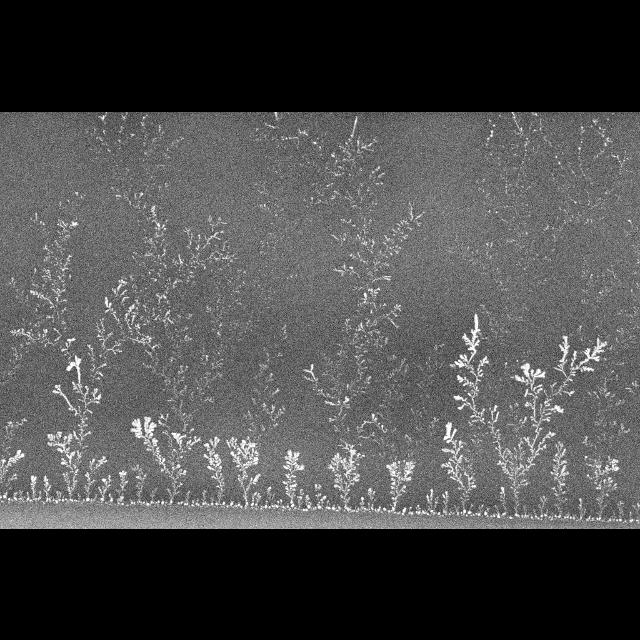dendrites: (487, 335, 609, 516), (47, 354, 101, 501), (130, 411, 200, 503), (449, 312, 489, 423), (39, 217, 79, 322), (440, 421, 477, 513), (328, 437, 365, 512), (226, 435, 262, 510), (586, 454, 619, 521), (386, 459, 418, 513), (550, 440, 570, 518), (203, 436, 224, 505), (282, 449, 304, 506), (0, 449, 24, 498), (84, 455, 108, 501), (9, 327, 62, 347), (171, 400, 199, 433), (189, 251, 239, 269), (8, 276, 31, 306), (88, 344, 106, 380), (124, 298, 140, 335), (357, 413, 388, 432), (507, 402, 526, 433), (132, 464, 147, 503), (262, 402, 285, 426), (95, 316, 113, 346), (281, 127, 308, 147), (129, 334, 162, 350), (4, 418, 27, 439), (383, 303, 402, 327), (26, 475, 42, 502), (116, 469, 128, 504), (30, 289, 53, 307), (98, 474, 111, 502), (333, 263, 359, 277), (203, 230, 224, 247), (105, 296, 119, 321), (60, 337, 76, 358), (337, 460, 349, 488), (243, 410, 257, 434), (354, 354, 368, 378), (426, 488, 439, 513), (105, 337, 125, 353), (304, 363, 318, 385), (112, 277, 127, 297), (512, 111, 524, 135), (152, 217, 166, 237), (9, 343, 23, 363), (252, 363, 268, 380), (204, 371, 222, 386), (338, 395, 350, 416), (145, 486, 158, 505), (382, 241, 401, 254), (43, 474, 52, 501), (52, 490, 69, 503), (267, 485, 277, 507), (500, 485, 507, 515), (176, 490, 190, 505), (361, 138, 377, 151), (538, 494, 547, 516), (621, 149, 632, 167), (209, 221, 228, 231), (632, 501, 640, 524), (124, 193, 137, 207), (302, 493, 312, 511), (162, 429, 172, 447), (578, 497, 586, 519), (368, 486, 376, 508), (583, 435, 596, 448), (368, 286, 380, 300), (321, 352, 333, 366), (145, 235, 157, 248), (617, 499, 624, 521), (316, 388, 333, 397), (265, 352, 282, 361), (372, 274, 391, 282), (316, 493, 326, 508), (354, 338, 369, 348), (351, 115, 358, 136), (442, 490, 448, 514), (598, 386, 610, 398), (211, 358, 224, 369), (7, 363, 20, 374), (251, 491, 261, 505), (377, 411, 391, 421), (477, 304, 491, 314), (297, 488, 304, 507), (357, 136, 363, 158), (618, 423, 630, 434), (322, 369, 335, 379), (171, 135, 184, 145), (367, 237, 375, 253), (206, 304, 215, 318), (414, 210, 425, 221), (342, 151, 354, 161), (157, 365, 167, 377), (607, 264, 616, 277), (185, 226, 193, 240), (328, 170, 344, 177), (140, 113, 148, 127), (603, 476, 613, 487), (156, 293, 167, 303), (611, 151, 621, 162), (201, 489, 208, 504), (359, 431, 374, 438), (521, 504, 529, 517), (196, 378, 202, 395), (178, 364, 188, 374), (408, 200, 413, 220), (489, 316, 499, 326), (533, 509, 542, 520), (356, 321, 365, 332), (375, 302, 386, 311), (471, 438, 482, 447), (162, 315, 174, 323), (325, 399, 341, 405), (462, 466, 474, 474), (372, 436, 384, 444), (150, 204, 157, 217), (259, 499, 269, 508), (360, 496, 366, 511), (384, 233, 394, 242), (98, 111, 108, 120), (596, 126, 605, 136), (350, 378, 359, 388), (475, 504, 483, 515), (173, 277, 181, 288), (431, 416, 439, 427), (399, 358, 407, 369), (544, 135, 552, 146), (135, 322, 142, 334), (350, 332, 357, 344), (487, 129, 494, 141), (174, 325, 188, 331), (374, 338, 383, 347), (191, 498, 201, 506), (166, 385, 176, 393), (174, 375, 184, 383), (180, 384, 187, 395), (614, 398, 625, 405), (563, 513, 575, 519), (145, 349, 154, 357), (272, 386, 280, 395), (369, 300, 377, 309), (379, 249, 388, 257), (371, 165, 380, 173), (274, 111, 282, 120), (539, 117, 545, 129), (495, 504, 500, 518), (223, 240, 230, 250), (204, 395, 214, 402), (30, 212, 37, 222), (542, 254, 552, 261), (585, 514, 596, 520), (454, 504, 460, 515), (361, 291, 367, 302), (340, 217, 351, 223), (367, 328, 380, 333), (580, 162, 585, 175), (626, 386, 634, 394), (74, 492, 81, 501), (304, 374, 313, 381), (267, 372, 274, 381), (277, 498, 283, 508), (162, 243, 167, 255), (357, 250, 363, 260), (341, 231, 346, 243), (265, 122, 275, 128), (32, 282, 44, 287), (172, 257, 179, 265), (164, 378, 172, 385), (365, 375, 372, 383), (333, 424, 341, 431), (405, 433, 412, 441), (373, 260, 380, 268), (332, 159, 340, 166), (121, 111, 128, 119), (32, 267, 36, 281), (629, 511, 634, 522), (325, 500, 331, 509), (415, 504, 421, 513), (357, 386, 366, 392), (18, 489, 23, 499), (145, 251, 155, 256), (187, 238, 192, 248), (515, 315, 525, 320), (159, 261, 166, 268), (542, 223, 549, 230), (315, 482, 321, 490), (282, 502, 290, 508), (401, 506, 407, 514), (422, 509, 430, 515), (183, 334, 191, 340), (143, 361, 151, 367), (344, 317, 350, 325), (350, 252, 358, 258), (377, 171, 385, 177), (251, 396, 257, 404), (631, 380, 639, 386), (439, 360, 445, 368), (404, 363, 408, 375), (537, 280, 545, 286), (326, 181, 335, 186), (367, 182, 372, 191), (91, 125, 96, 134), (628, 218, 633, 227), (109, 491, 113, 502), (179, 253, 183, 264), (331, 233, 338, 239), (593, 390, 599, 397), (585, 217, 592, 223), (592, 117, 598, 124), (486, 241, 492, 248), (522, 302, 528, 309), (549, 512, 554, 520), (12, 491, 17, 499), (91, 493, 96, 501), (132, 254, 137, 262), (370, 319, 375, 327), (400, 233, 408, 238), (333, 189, 341, 194), (521, 185, 531, 189), (581, 298, 589, 303), (445, 248, 455, 252), (628, 334, 636, 339), (234, 503, 243, 507), (375, 506, 381, 512), (120, 289, 126, 295), (512, 142, 518, 148), (199, 347, 205, 353), (122, 296, 129, 301), (356, 233, 361, 240), (361, 240, 368, 245), (402, 219, 409, 224), (252, 387, 259, 392), (616, 308, 623, 313), (490, 327, 497, 332), (416, 425, 423, 430), (505, 176, 507, 193), (168, 397, 176, 401), (337, 350, 345, 354), (605, 137, 613, 141), (533, 274, 541, 278), (606, 517, 612, 522), (613, 511, 616, 521), (623, 517, 628, 523), (335, 505, 341, 510), (165, 309, 170, 315), (216, 249, 222, 254), (187, 313, 192, 319), (152, 306, 155, 316), (341, 413, 346, 419), (416, 221, 422, 226), (362, 228, 368, 233), (344, 195, 350, 200), (616, 328, 622, 333), (571, 198, 577, 203), (563, 208, 568, 214), (502, 217, 508, 222), (439, 342, 445, 347), (425, 361, 430, 367), (417, 382, 422, 388), (606, 345, 612, 350), (482, 431, 488, 436), (594, 420, 600, 425), (544, 508, 548, 515), (116, 194, 123, 198), (139, 191, 143, 198), (330, 386, 337, 390), (40, 220, 44, 227), (164, 321, 168, 328), (465, 457, 472, 461), (429, 429, 436, 433), (615, 361, 624, 364), (229, 500, 234, 505), (155, 314, 160, 319), (329, 416, 334, 421), (390, 371, 395, 376), (391, 354, 396, 359), (363, 259, 368, 264), (392, 227, 397, 232), (398, 228, 403, 233), (264, 385, 269, 390), (599, 289, 604, 294), (580, 129, 585, 134), (600, 147, 605, 152), (633, 305, 638, 310), (408, 451, 413, 456), (490, 513, 496, 517), (8, 497, 14, 501), (332, 503, 336, 509), (409, 506, 412, 514), (143, 303, 146, 311), (195, 244, 199, 250), (208, 214, 212, 220), (352, 285, 358, 289), (382, 261, 388, 265), (310, 195, 313, 203), (345, 140, 349, 146), (96, 136, 102, 140), (532, 111, 538, 115), (526, 136, 530, 142), (636, 258, 640, 264), (582, 288, 588, 292), (481, 336, 489, 339), (434, 343, 437, 351), (399, 392, 403, 398), (121, 275, 127, 279), (578, 350, 584, 354), (468, 421, 474, 425), (465, 447, 471, 451), (210, 497, 213, 504), (158, 254, 161, 261), (161, 238, 164, 245), (346, 426, 349, 433), (357, 187, 360, 194), (376, 181, 383, 184), (158, 124, 161, 131), (262, 423, 265, 430), (524, 140, 527, 147), (587, 198, 590, 205), (434, 359, 437, 366), (388, 389, 391, 396), (467, 509, 471, 514), (484, 509, 488, 514), (131, 499, 135, 504), (383, 506, 387, 511), (226, 278, 231, 282), (396, 222, 401, 226), (330, 194, 335, 198), (331, 151, 335, 156), (343, 147, 348, 151), (348, 195, 353, 199), (107, 147, 111, 152), (152, 137, 156, 142), (282, 324, 286, 329), (610, 393, 614, 398), (628, 313, 633, 317), (477, 331, 482, 335), (505, 303, 509, 308), (620, 327, 624, 332), (467, 464, 472, 468), (357, 441, 362, 445), (390, 442, 395, 446), (130, 274, 133, 280), (134, 192, 137, 198), (371, 201, 377, 204), (257, 189, 263, 192), (119, 125, 122, 131), (283, 328, 286, 334), (604, 379, 607, 385), (579, 324, 581, 333), (200, 361, 206, 364), (616, 336, 619, 342), (0, 491, 2, 499), (156, 499, 160, 503), (218, 216, 222, 220), (167, 277, 171, 281), (217, 331, 221, 335), (366, 319, 370, 323), (367, 270, 371, 274), (398, 237, 402, 241), (400, 220, 404, 224), (361, 216, 365, 220), (359, 167, 363, 171), (118, 138, 122, 142), (283, 335, 287, 339), (587, 390, 591, 394), (594, 153, 598, 157), (571, 169, 575, 173), (552, 233, 556, 237), (582, 269, 586, 273), (507, 314, 511, 318), (499, 280, 503, 284), (165, 284, 169, 288), (598, 333, 602, 337), (392, 427, 396, 431), (597, 435, 601, 439), (161, 499, 164, 504), (140, 315, 143, 320), (198, 233, 201, 238), (157, 271, 160, 276), (188, 270, 193, 273), (189, 274, 194, 277), (219, 322, 222, 327), (170, 356, 173, 361), (379, 403, 384, 406), (411, 407, 414, 412), (358, 286, 363, 289), (407, 226, 412, 229), (337, 165, 342, 168), (317, 198, 322, 201), (130, 133, 135, 136), (590, 273, 593, 278), (604, 189, 607, 194), (636, 281, 639, 286), (336, 342, 341, 345), (35, 307, 38, 312), (132, 282, 135, 287), (133, 289, 138, 292), (176, 342, 179, 347), (116, 320, 121, 323), (520, 244, 525, 247), (502, 287, 507, 290), (477, 423, 480, 428), (419, 411, 422, 416), (206, 354, 208, 361), (385, 336, 387, 343), (509, 515, 513, 518), (222, 500, 225, 504), (133, 251, 137, 254), (165, 182, 168, 186), (159, 267, 162, 271), (192, 252, 194, 258), (177, 314, 181, 317), (165, 300, 168, 304), (334, 415, 337, 419), (397, 227, 400, 231), (351, 204, 357, 206), (360, 182, 364, 185), (255, 127, 259, 130), (102, 129, 105, 133), (143, 141, 146, 145), (125, 167, 129, 170), (158, 185, 161, 189), (68, 198, 70, 204), (557, 160, 561, 163), (581, 125, 584, 129), (604, 141, 607, 145), (578, 150, 580, 156), (585, 190, 589, 193), (558, 205, 561, 209), (564, 219, 567, 223), (505, 361, 507, 367), (516, 358, 519, 362), (216, 351, 220, 354), (186, 279, 189, 283), (219, 267, 223, 270), (260, 249, 264, 252), (62, 320, 66, 323), (3, 371, 5, 377), (139, 289, 142, 293), (154, 259, 158, 262), (177, 355, 181, 358), (180, 338, 183, 342), (155, 352, 158, 356), (119, 324, 122, 328), (475, 178, 478, 182), (482, 177, 485, 181), (486, 192, 489, 196), (395, 454, 397, 460), (217, 298, 219, 303), (315, 201, 320, 203), (59, 200, 61, 205), (581, 137, 583, 142), (605, 155, 610, 157), (631, 288, 633, 293), (234, 290, 239, 292), (179, 265, 181, 270), (69, 273, 71, 278), (481, 271, 486, 273), (352, 393, 357, 395), (616, 518, 619, 521), (154, 278, 157, 281), (143, 322, 146, 325), (143, 204, 146, 207), (165, 290, 168, 293), (317, 388, 320, 391), (378, 264, 381, 267), (369, 218, 372, 221), (313, 140, 316, 143), (348, 138, 351, 141), (260, 203, 263, 206), (263, 203, 266, 206), (161, 130, 164, 133), (167, 155, 170, 158), (117, 188, 120, 191), (75, 191, 78, 194), (585, 455, 588, 458), (555, 155, 558, 158), (578, 146, 581, 149), (501, 144, 504, 147), (590, 123, 593, 126), (606, 117, 609, 120), (637, 325, 640, 328), (201, 357, 204, 360), (212, 327, 215, 330), (183, 272, 186, 275), (185, 263, 188, 266), (29, 328, 32, 331), (172, 350, 175, 353), (155, 361, 158, 364), (510, 239, 513, 242), (496, 266, 499, 269), (498, 270, 501, 273), (494, 276, 497, 279), (428, 424, 431, 427), (356, 462, 359, 465), (531, 514, 533, 518), (155, 240, 159, 242), (363, 349, 367, 351), (366, 283, 368, 287), (352, 224, 356, 226), (369, 209, 373, 211), (349, 172, 351, 176), (110, 186, 114, 188), (614, 420, 616, 424), (533, 128, 537, 130), (522, 159, 524, 163), (557, 144, 561, 146), (488, 209, 490, 213), (605, 285, 607, 289), (171, 335, 173, 339), (144, 287, 148, 289), (201, 354, 205, 356), (476, 248, 478, 252), (490, 254, 492, 258), (482, 188, 484, 192), (483, 262, 485, 266), (469, 258, 473, 260), (529, 289, 533, 291), (581, 337, 583, 341), (473, 434, 477, 436), (83, 498, 85, 501), (148, 271, 150, 274), (165, 219, 168, 221), (146, 216, 148, 219), (243, 280, 245, 283), (147, 319, 149, 322), (243, 270, 246, 272), (163, 388, 166, 390), (347, 383, 348, 389), (365, 334, 367, 337), (374, 322, 377, 324), (393, 232, 395, 235), (363, 223, 366, 225), (319, 145, 321, 148), (369, 174, 371, 177), (102, 142, 105, 144), (144, 151, 147, 153), (151, 175, 153, 178), (611, 369, 614, 371), (616, 373, 618, 376), (604, 357, 607, 359), (493, 123, 495, 126), (489, 118, 491, 121), (611, 112, 614, 114), (572, 214, 574, 217), (526, 231, 528, 234), (495, 210, 498, 212), (581, 274, 584, 276), (596, 324, 598, 327), (544, 278, 547, 280), (634, 310, 637, 312), (597, 274, 599, 277), (633, 271, 636, 273), (211, 319, 214, 321), (239, 284, 241, 287), (34, 323, 37, 325), (25, 350, 28, 352), (467, 246, 469, 249), (512, 238, 515, 240), (486, 251, 488, 254), (509, 227, 511, 230), (536, 253, 539, 255), (523, 267, 526, 269), (471, 250, 473, 253), (521, 273, 524, 275), (633, 326, 636, 328), (489, 407, 491, 410), (477, 432, 480, 434), (383, 451, 385, 454), (379, 452, 381, 455), (404, 436, 407, 438), (403, 459, 405, 462), (597, 401, 600, 403), (371, 308, 372, 313), (160, 164, 165, 165), (149, 216, 151, 218), (366, 324, 368, 326), (375, 268, 377, 270), (339, 144, 341, 146), (326, 166, 328, 168), (308, 160, 310, 162), (275, 213, 277, 215), (86, 130, 88, 132), (151, 121, 153, 123), (144, 134, 146, 136), (130, 177, 132, 179), (525, 149, 527, 151), (529, 126, 531, 128), (237, 302, 241, 303), (216, 305, 218, 307), (230, 292, 232, 294), (216, 286, 218, 288), (29, 322, 31, 324), (490, 152, 492, 154), (533, 257, 535, 259), (516, 263, 518, 265), (518, 261, 520, 263), (476, 258, 478, 260), (496, 280, 498, 282), (451, 246, 453, 248), (456, 235, 458, 237), (527, 287, 529, 289), (607, 334, 609, 336), (589, 339, 591, 341), (390, 455, 392, 457), (357, 303, 359, 305), (269, 505, 270, 508), (312, 388, 315, 389), (167, 147, 168, 150), (514, 153, 517, 154), (557, 215, 558, 218), (429, 356, 430, 359), (238, 338, 241, 339), (151, 277, 154, 278), (520, 257, 523, 258), (416, 441, 417, 444), (81, 195, 82, 197), (123, 303, 125, 304), (448, 246, 450, 247), (455, 238, 456, 240), (500, 275, 502, 276), (507, 297, 509, 298), (621, 340, 622, 342), (630, 340, 632, 341), (360, 302, 361, 304), (405, 441, 409, 441)
